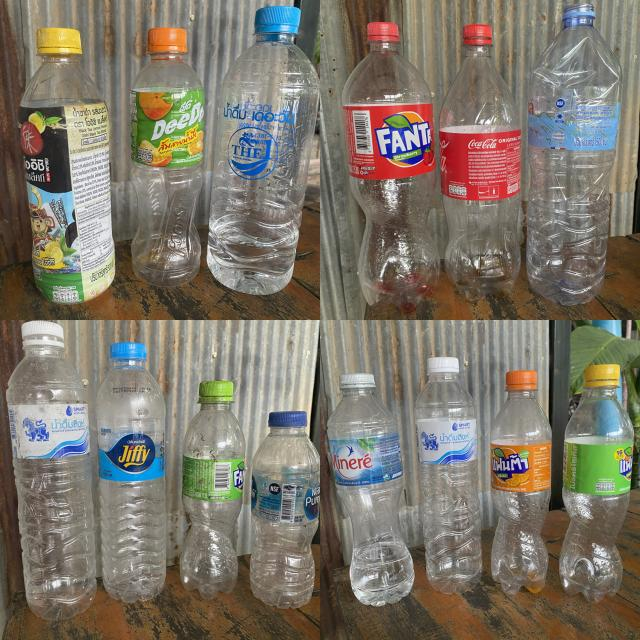plastik: (206, 6, 319, 295), (526, 4, 622, 305), (342, 22, 440, 312), (6, 321, 96, 620), (18, 28, 115, 304), (439, 25, 521, 301), (328, 374, 414, 606), (130, 28, 204, 287), (96, 342, 166, 602), (559, 364, 634, 602), (415, 358, 482, 594), (180, 381, 245, 599), (250, 411, 320, 609), (491, 370, 551, 594)
